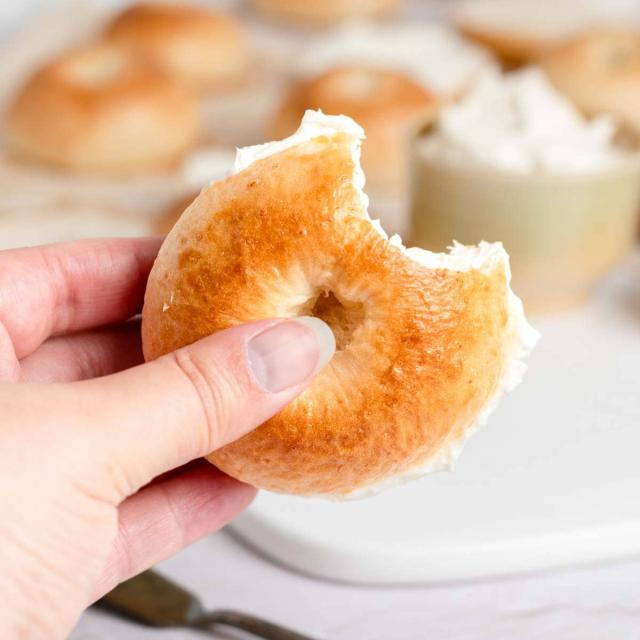Bagel: (142, 111, 538, 496)
